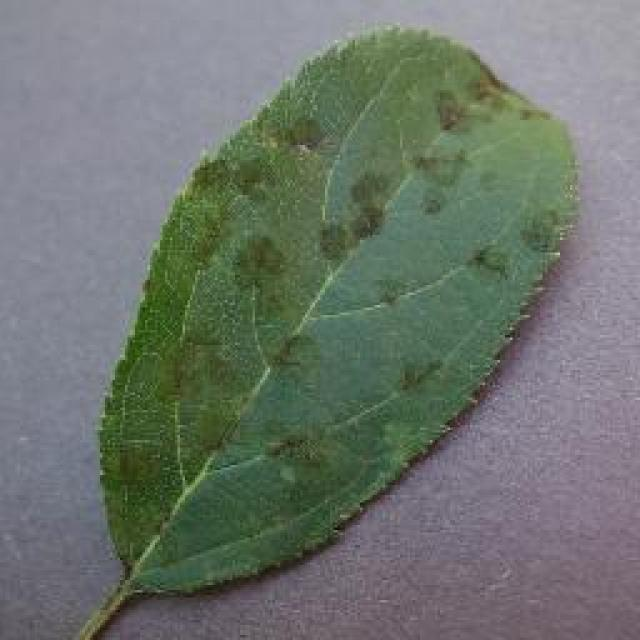apple scab disease: (62, 20, 582, 638)
